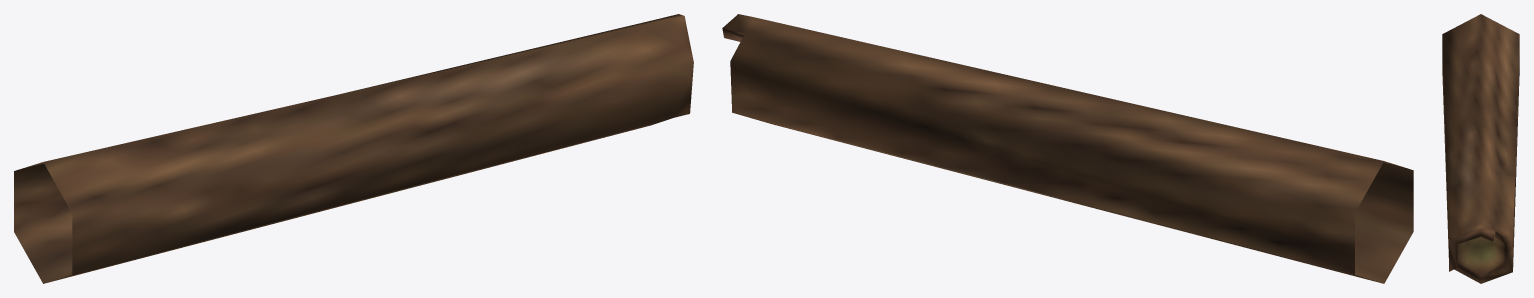
File: firewood.FBX
3 renders of one model, left to right at view 1: azimuth 30°, elevation 25°; view 2: azimuth 150°, elevation 25°; view 3: azimuth 270°, elevation 25°, orthographic. The views are drawn at different scales.
Visible parts, largest first — view 1: Object001; view 2: Object001; view 3: Object001.
Boxes of the visible parts, x1=… form: Object001: x1=14, y1=14, x2=693, y2=283; Object001: x1=722, y1=14, x2=1413, y2=283; Object001: x1=1442, y1=14, x2=1519, y2=283.
Bounding box in the file's own units: 41.96 × 6.55 × 7.57.
